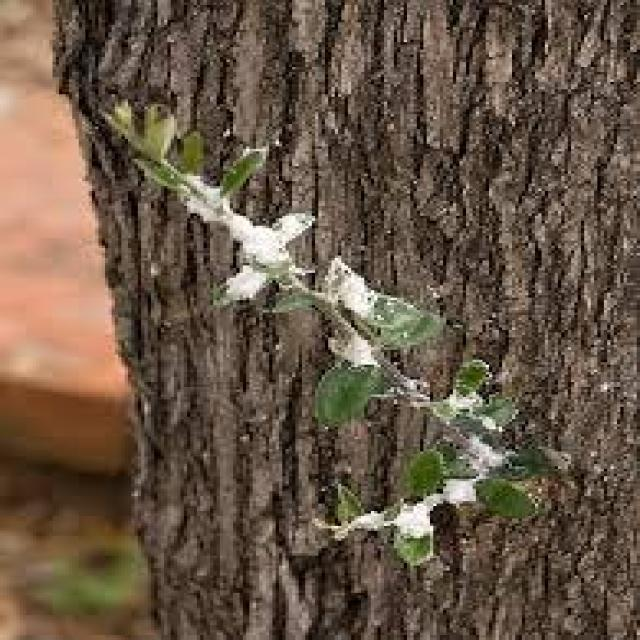Psyllid: (164, 161, 315, 300), (338, 478, 476, 538), (322, 256, 377, 324), (328, 344, 378, 369)
